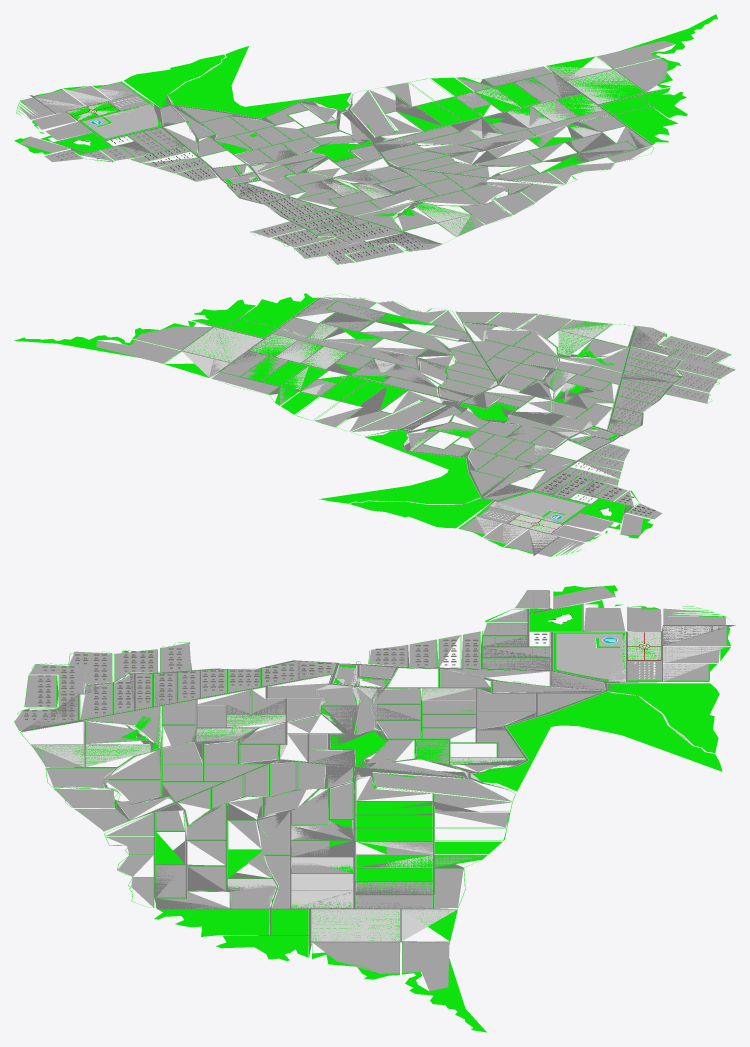
File: Gudang.glb
The picture shows the model from 3 angles, top to bottom: view 1: azimuth 30°, elevation 25°; view 2: azimuth 150°, elevation 25°; view 3: azimuth 270°, elevation 25°; orthographic projection. The views are drawn at different scales.
Visible parts, largest first — view 1: Model_Zonasi_Clean; view 2: Model_Zonasi_Clean; view 3: Model_Zonasi_Clean.
Part boxes in pixels (x1,y1,x2,y2): Model_Zonasi_Clean: (14,14,717,264); Model_Zonasi_Clean: (14,293,735,556); Model_Zonasi_Clean: (14,585,735,1032).
Size of the model in its own units: 3 by 0.0102 by 2.05.
29 materials, 6 textured.
